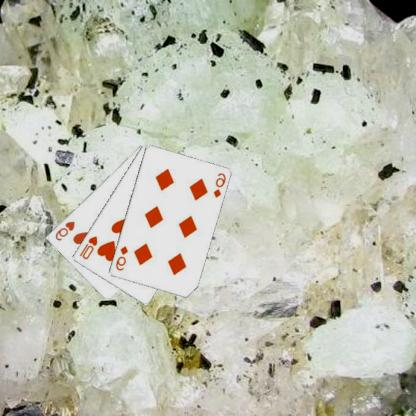10H: (78, 233, 100, 260)
6D: (114, 243, 131, 272), (212, 170, 229, 199)
6H: (54, 218, 78, 242)
